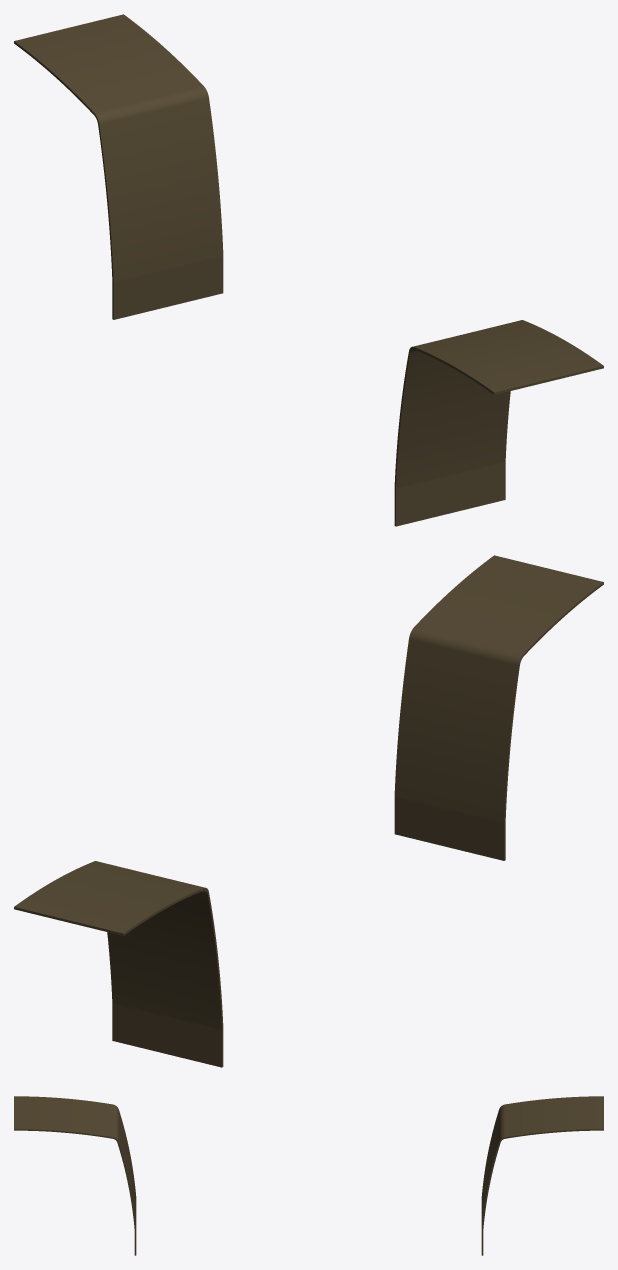
Rendered from OUTFITTING_INTERIOR__COMPANIONWAY HATCH__1_2_ acrylic.glb.
3 renders of one model, top to bottom at view 1: azimuth 30°, elevation 25°; view 2: azimuth 150°, elevation 25°; view 3: azimuth 270°, elevation 25°, orthographic. The views are drawn at different scales.
Parts seen in each view (by area): view 1: 1/2" acrylic; view 2: 1/2" acrylic; view 3: 1/2" acrylic.
Boxes of the visible parts, bbox=[...] form: 1/2" acrylic: bbox=[14, 14, 603, 526]; 1/2" acrylic: bbox=[14, 555, 603, 1067]; 1/2" acrylic: bbox=[14, 1096, 603, 1255].
Size of the model in its own units: 0.6033 by 1.08 by 4.57.
